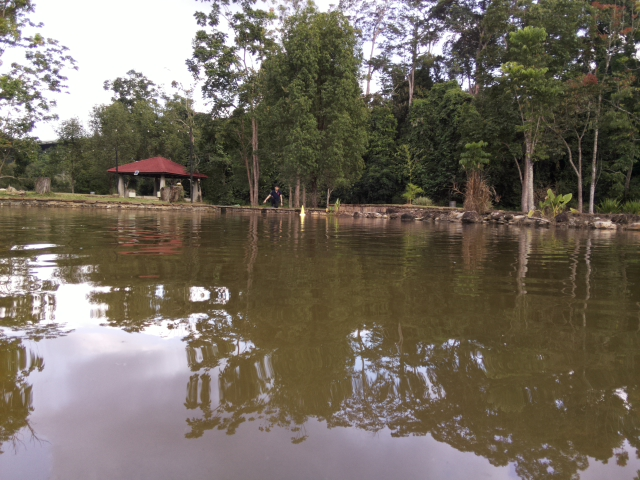checkpoint: (298, 204, 308, 217)
